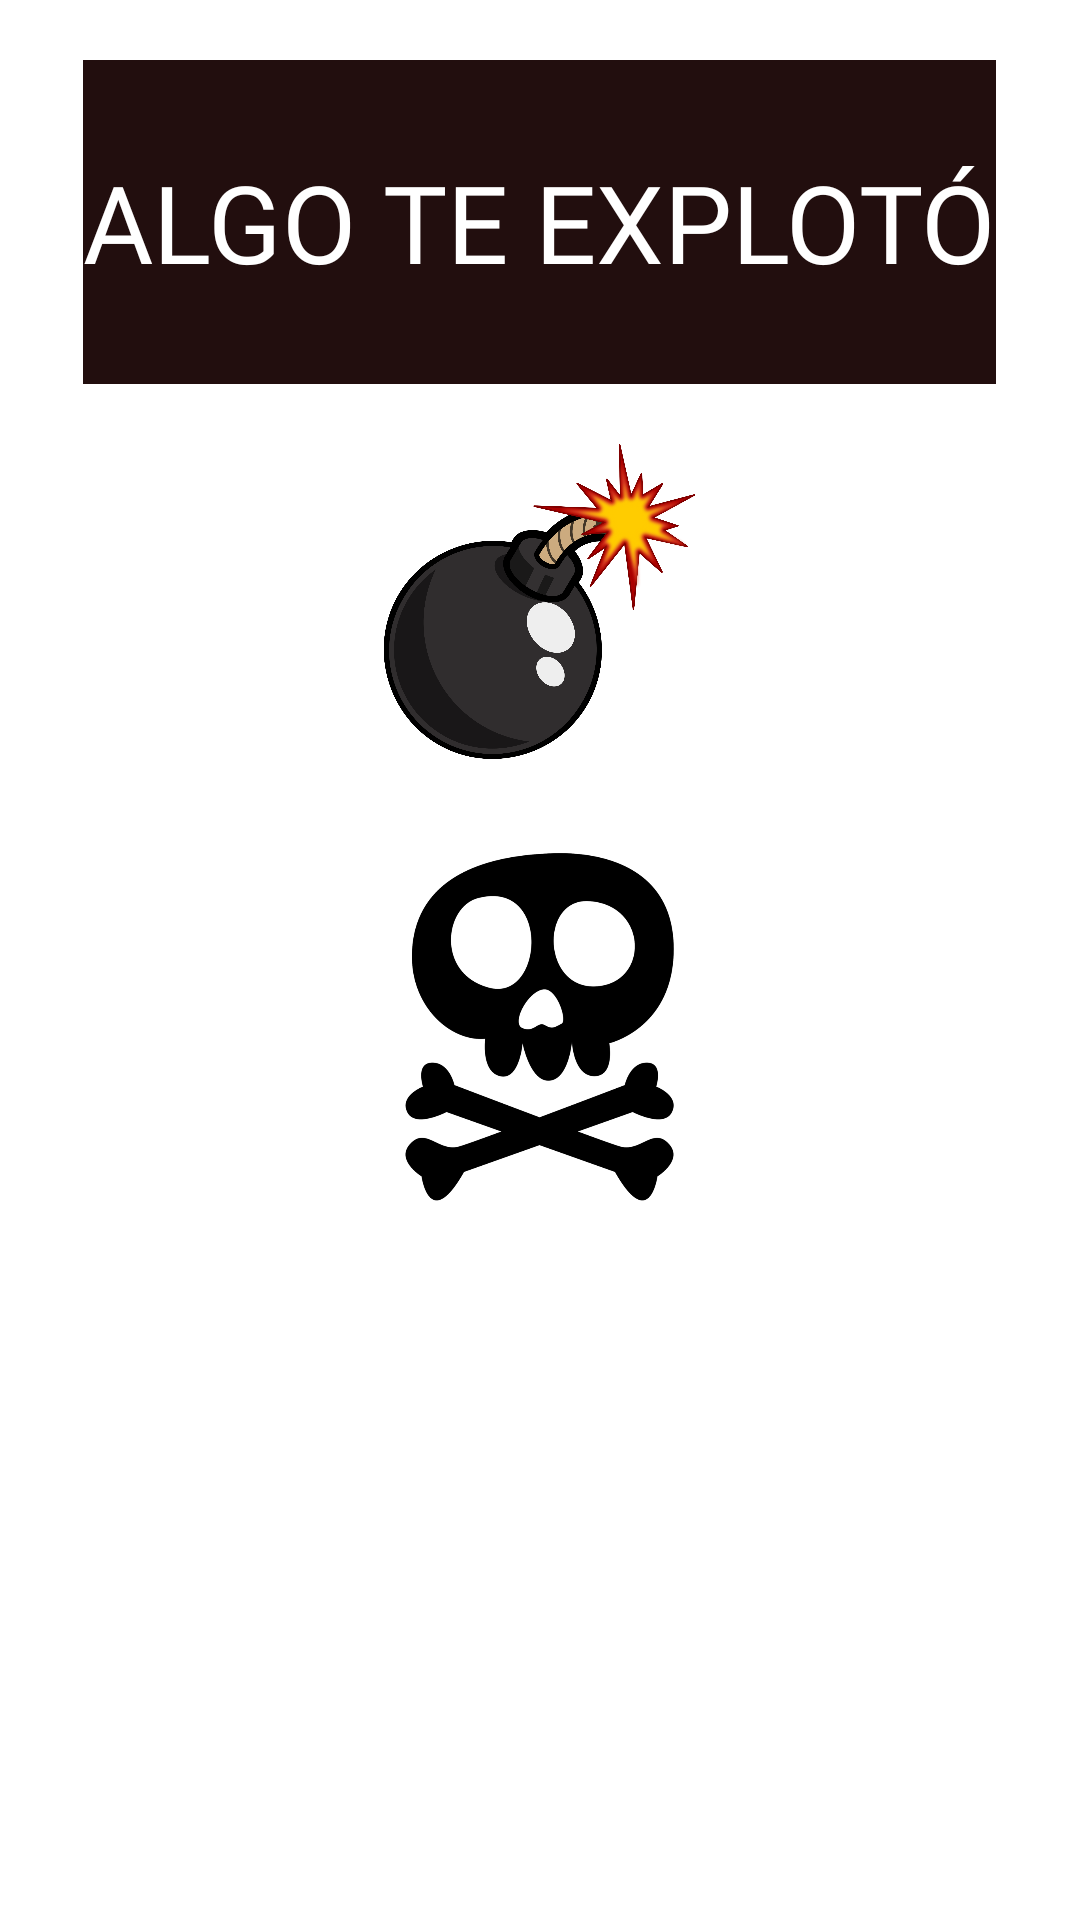

Named icons in this screenshot (1080×1920) and their centers, [x,y]:
Es uan imagen de una bomba: [539,601]
es una imagen de calavera: [539,1027]
